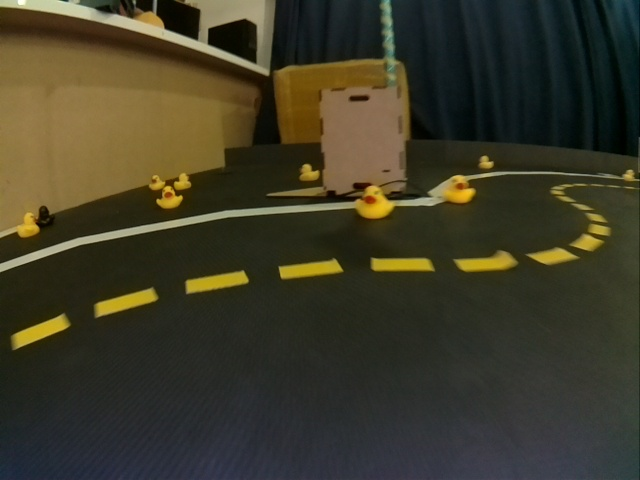Duckie: (354, 188, 393, 219), (443, 175, 475, 204), (157, 189, 182, 210), (17, 213, 38, 235), (299, 164, 319, 181), (177, 172, 193, 189), (149, 174, 161, 190), (478, 156, 494, 168), (623, 169, 635, 181)
